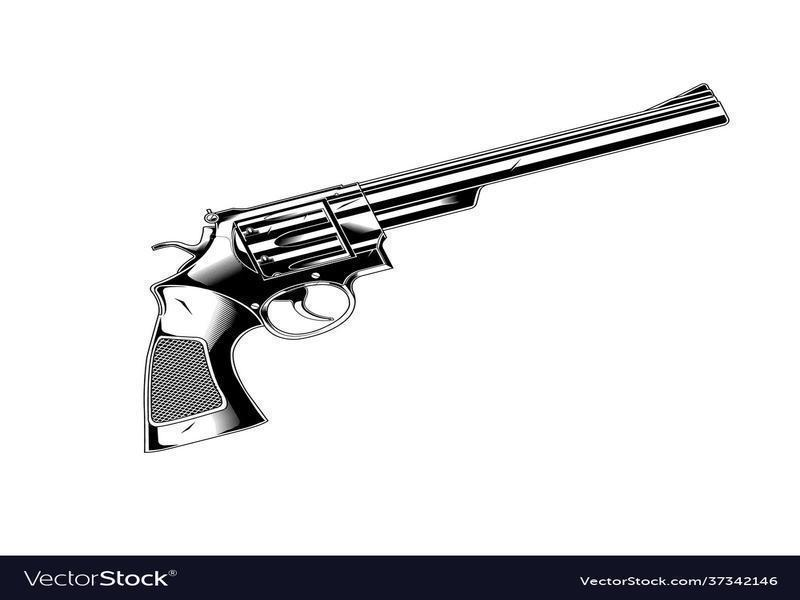GUN: (137, 81, 736, 458)
